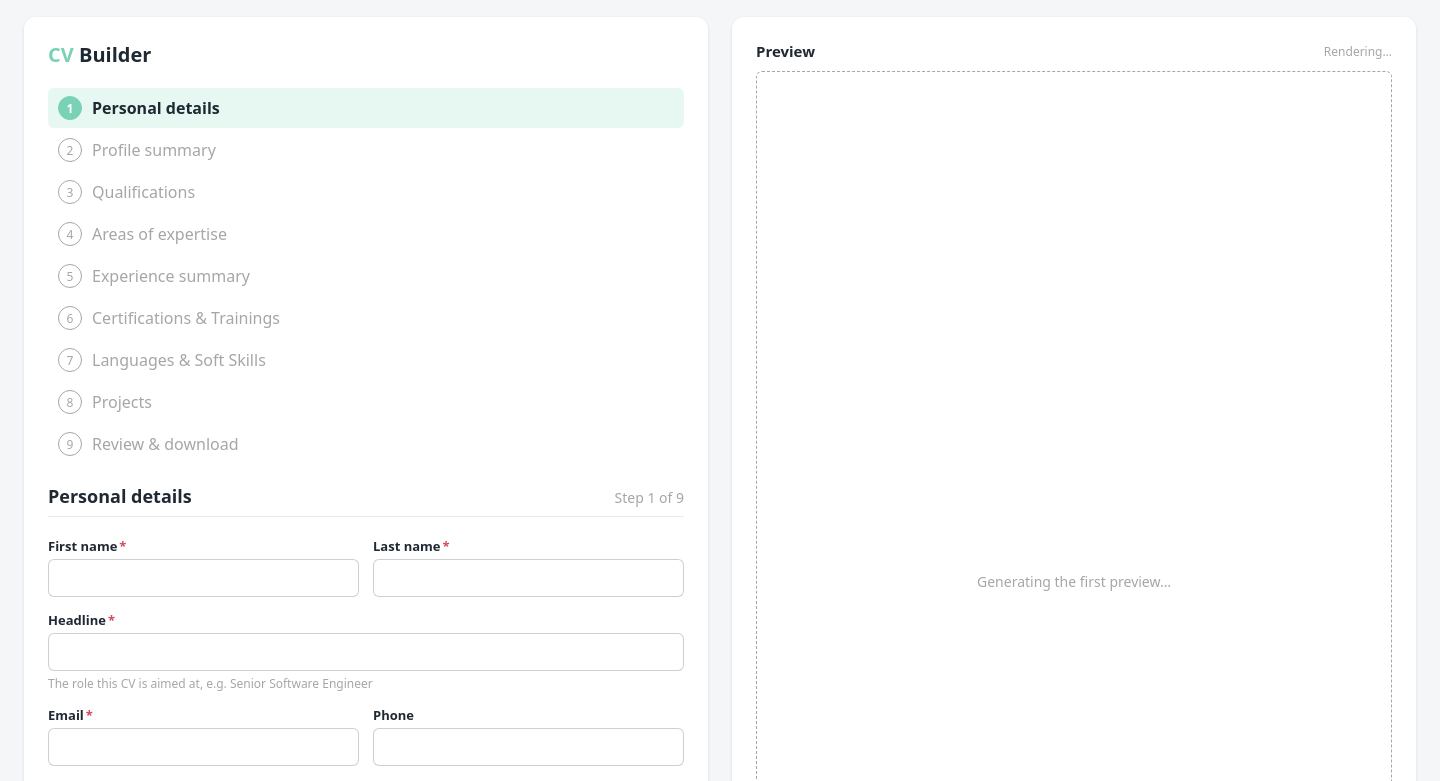
Test: validation gating › reports a malformed email rather than advancing
Type "Ada" into the field labelled "First name*" at (204,578), box [48, 559, 359, 597]
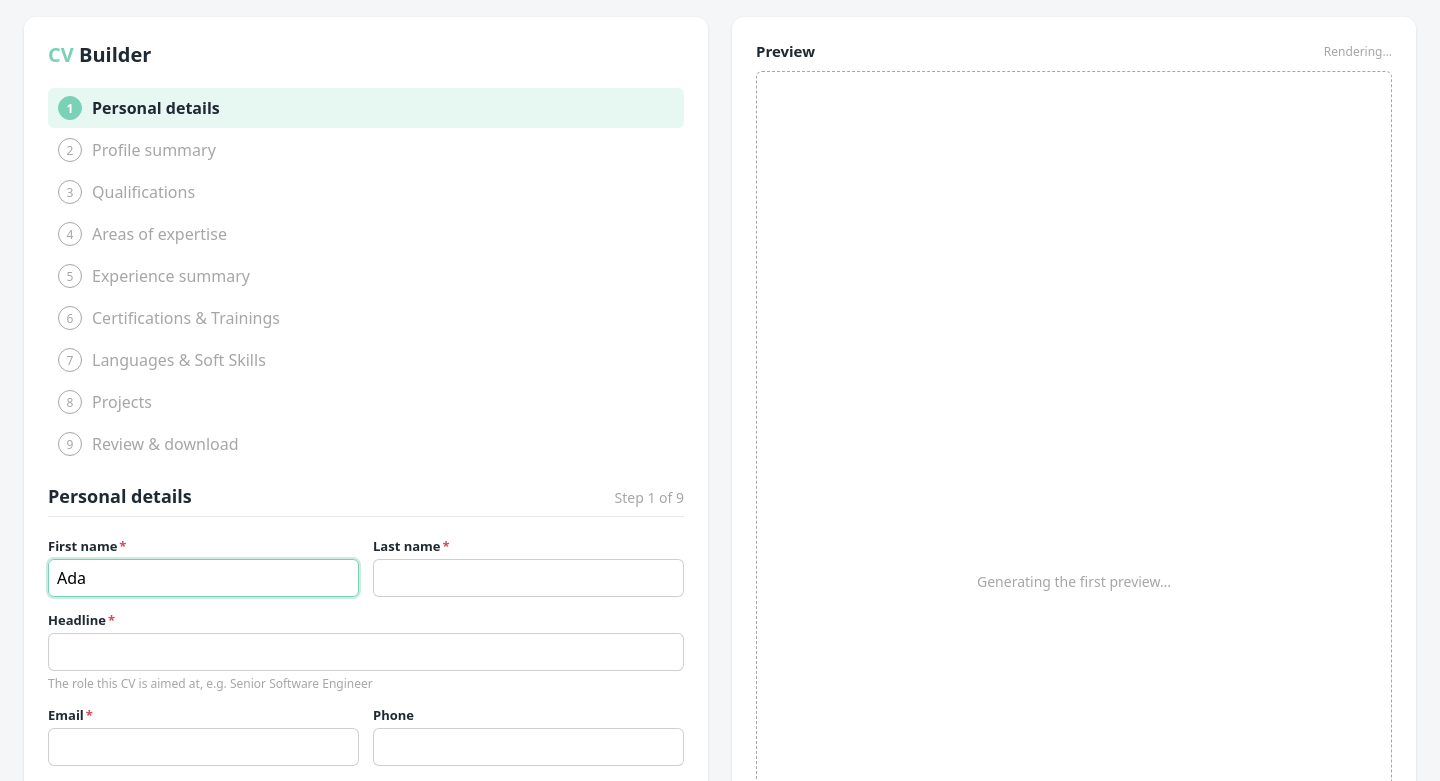
Type "Lovelace" into the field labelled "Last name*" at (528,578), box [373, 559, 684, 597]
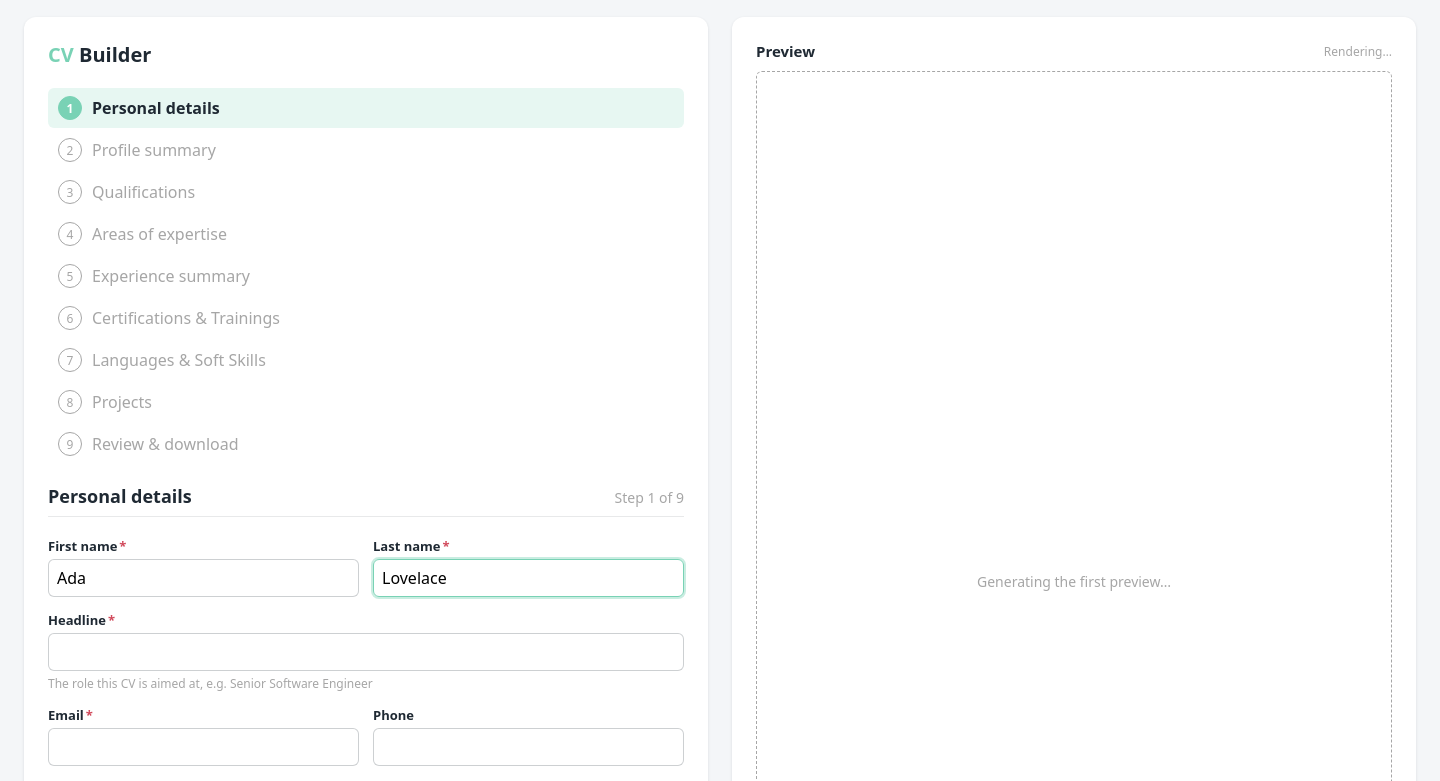
Type "Senior Engineer" into the field labelled "Headline*" at (366,652), box [48, 633, 684, 671]
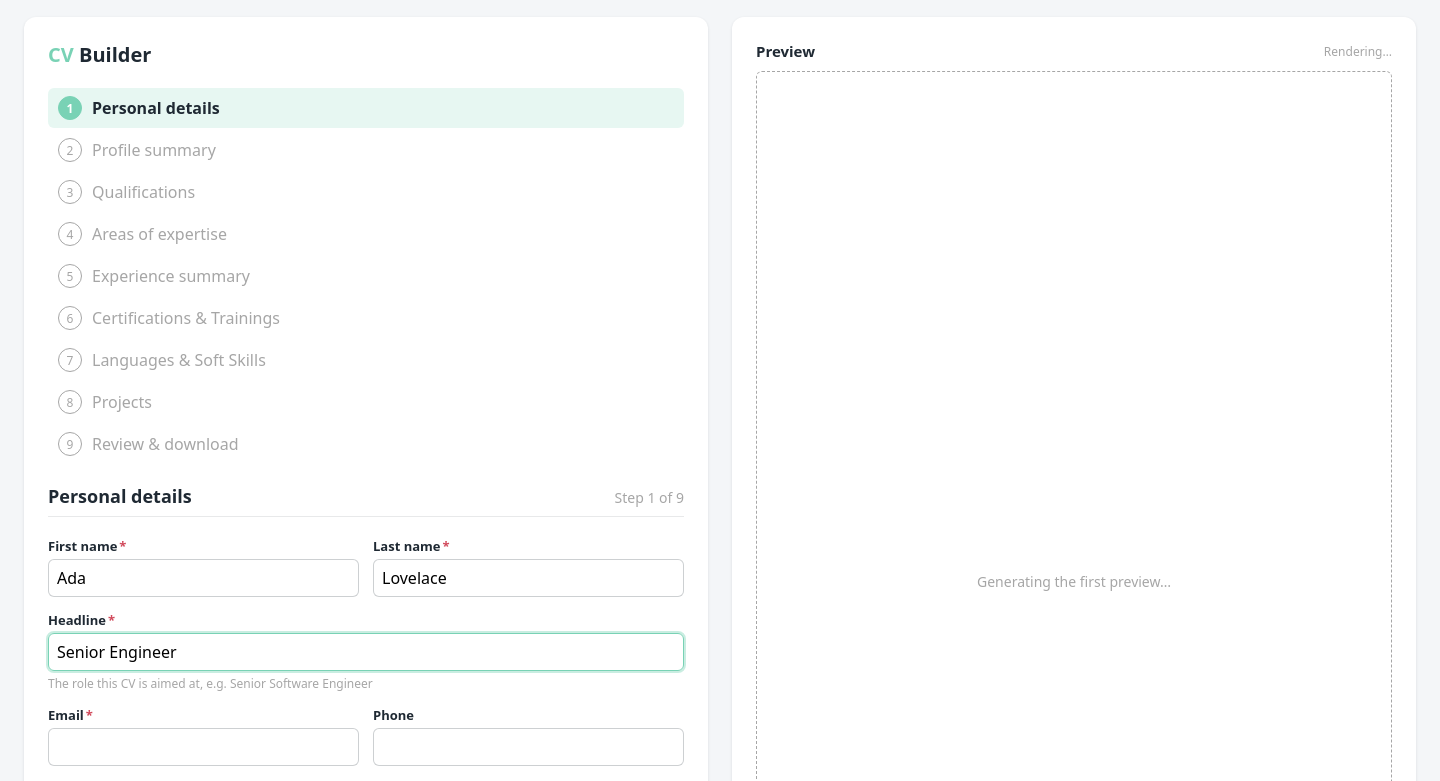
Type "ada@" into the field labelled "Email*" at (204,747), box [48, 728, 359, 766]
(page scrolled)
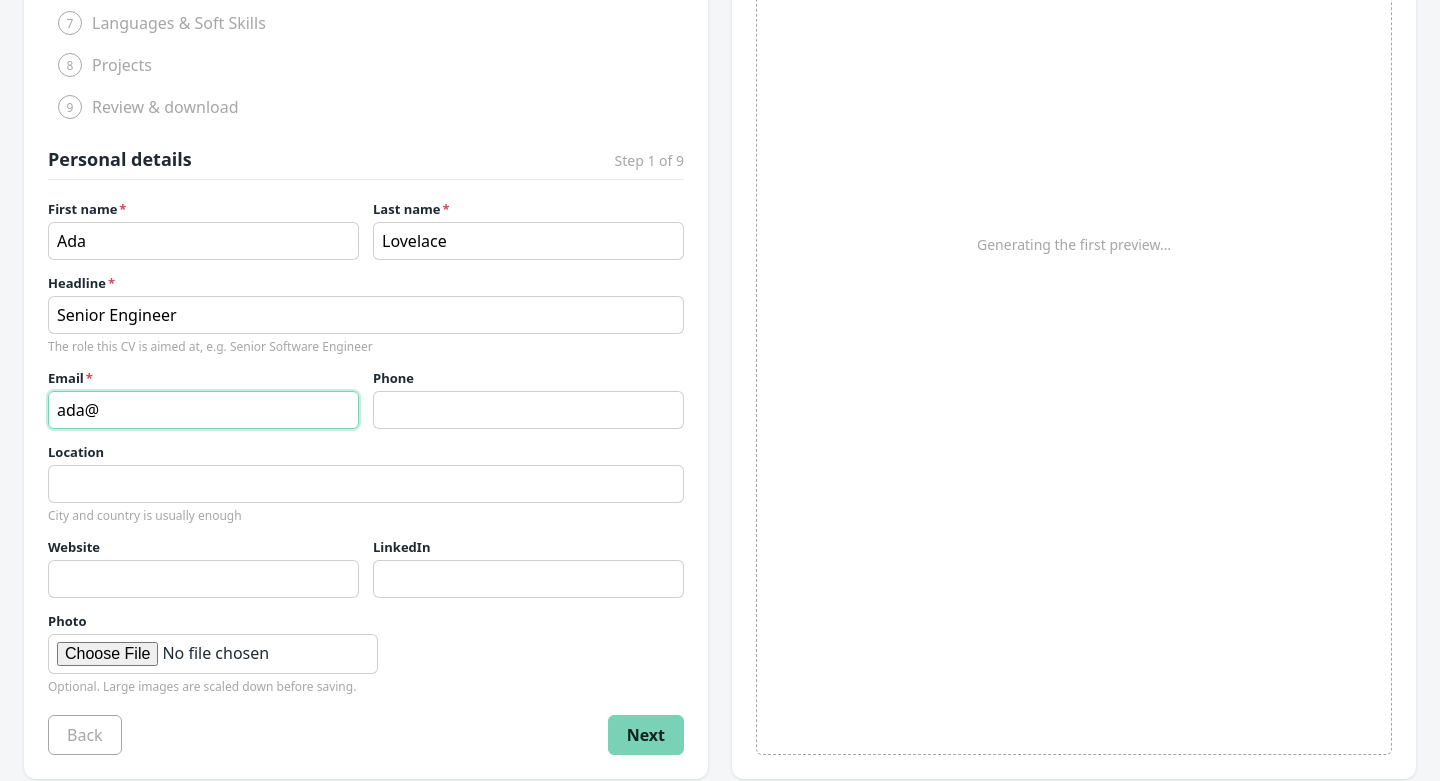
Click the button "Next" at (646,735), box [608, 715, 684, 755]
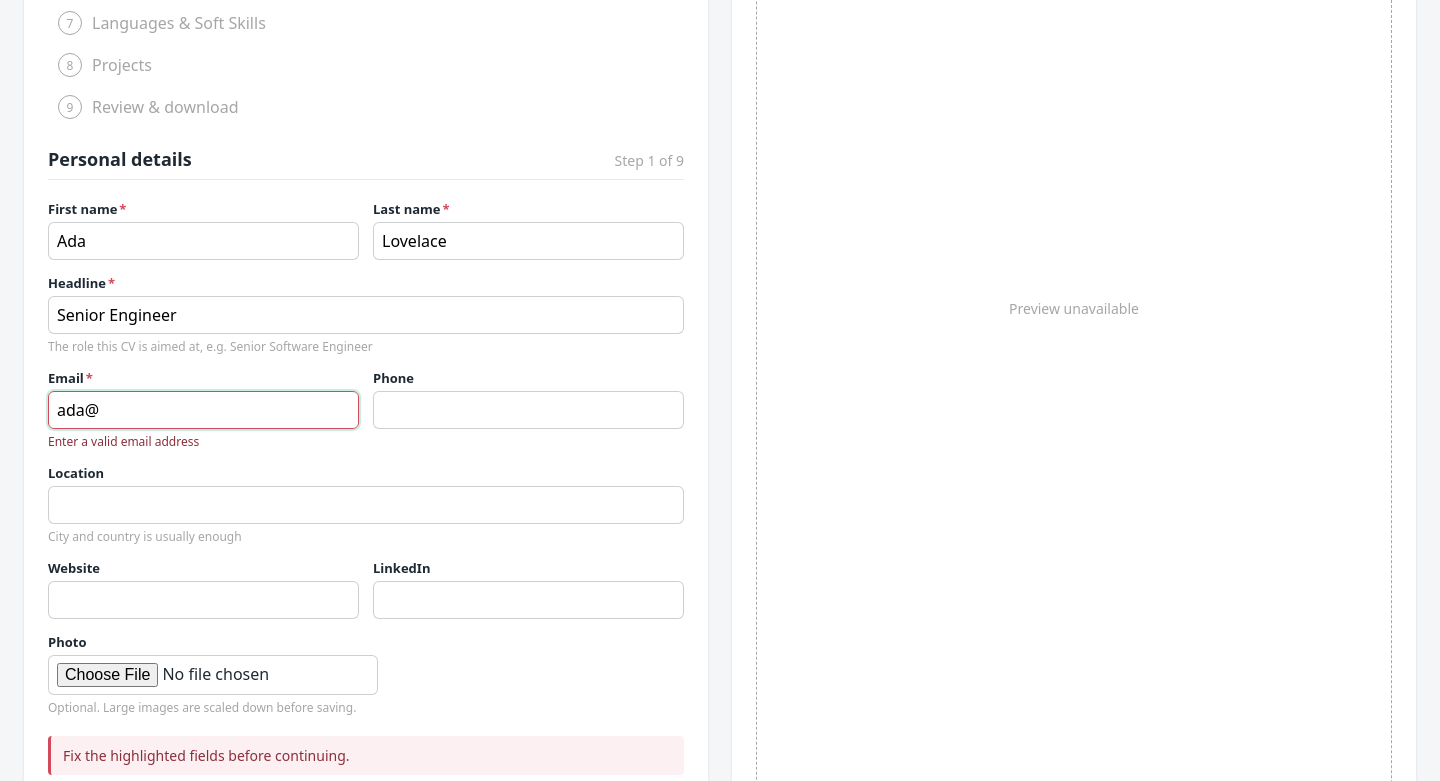
Check: the heading "Personal details" is shown, box [48, 147, 192, 171]
Check: the text "Enter a valid email address" is shown, box [48, 433, 199, 450]
